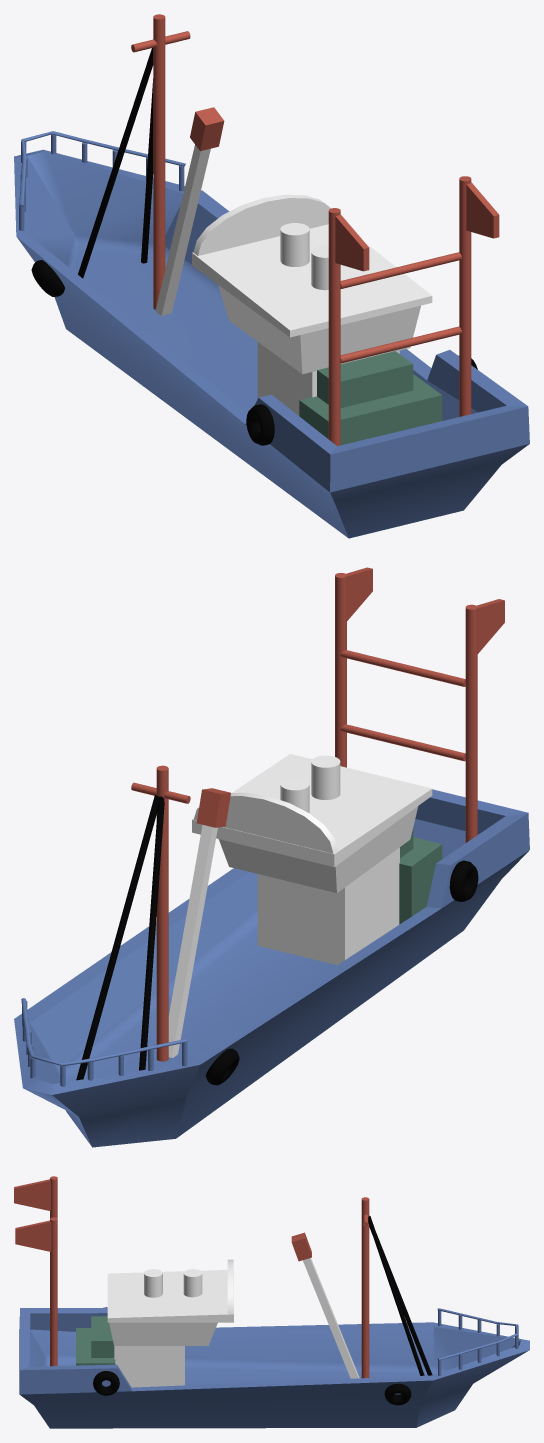
File: fishing_boat.glb
3 views of the same model, one above another, from view 1: azimuth 30°, elevation 25°; view 2: azimuth 150°, elevation 25°; view 3: azimuth 270°, elevation 25° (orthographic). The views are drawn at different scales.
Bounding box in the file's own units: 7.92 × 11.34 × 25.13.
